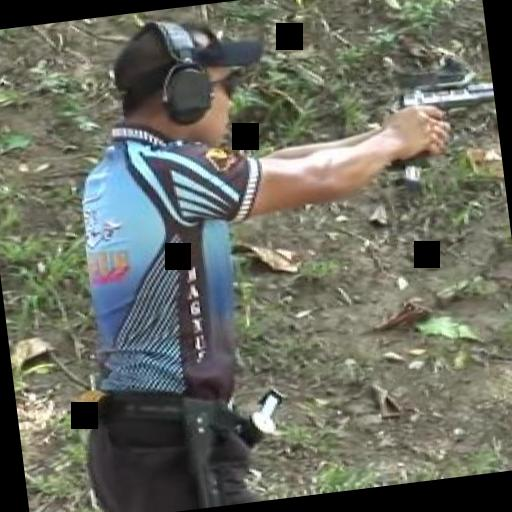Handgun: (382, 72, 502, 184)
